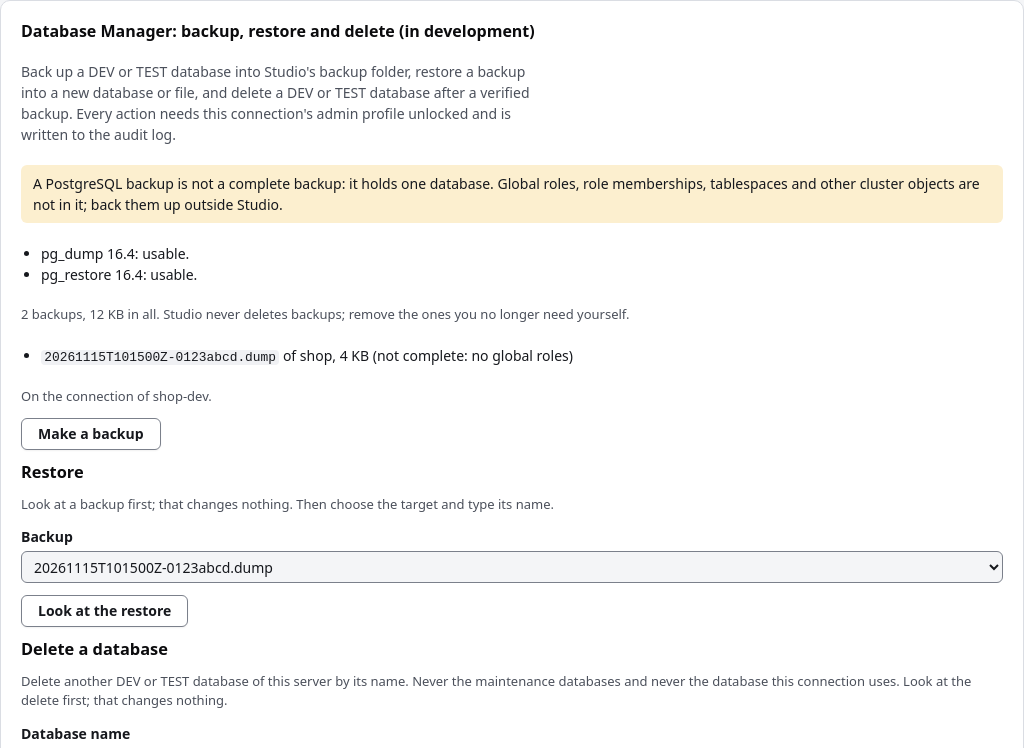
Test: the Database Manager section › shows the unlock again after the admin role was found over-privileged
Click the button with test id "database-manager-backup": (91, 434) [21,418,161,450]
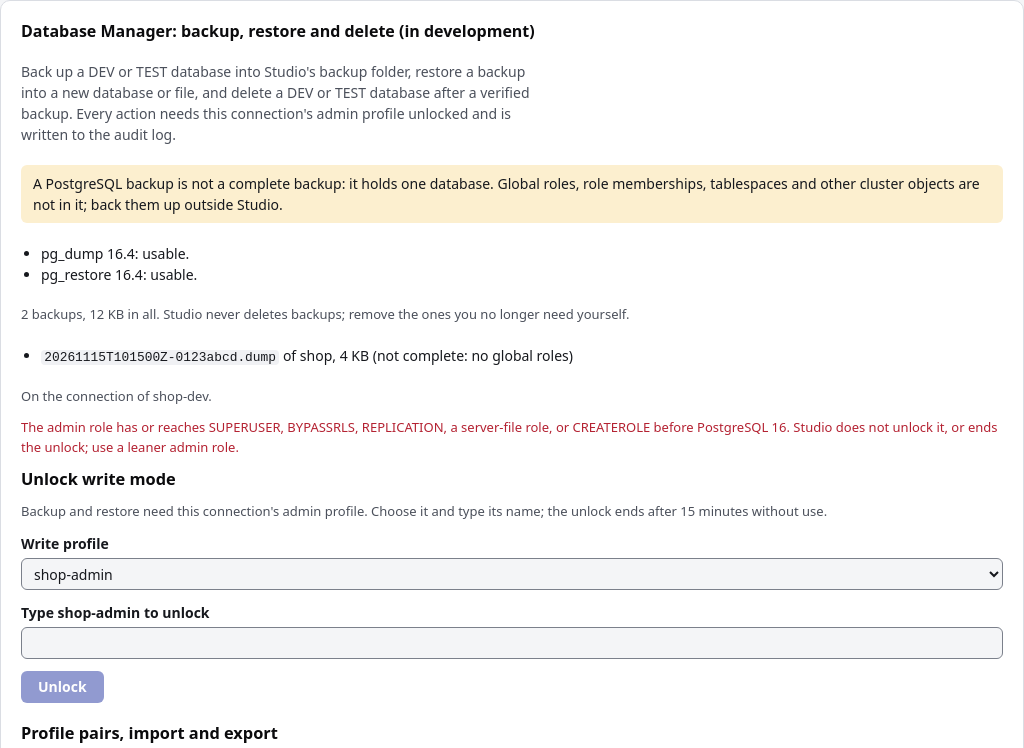
Expected: the form with test id "data-editor-unlock" is shown, [21,469,1003,703]
Expected: the message with test id "database-manager-problem" shows "The admin role has or reaches SUPERUSER", [21,418,998,456]
